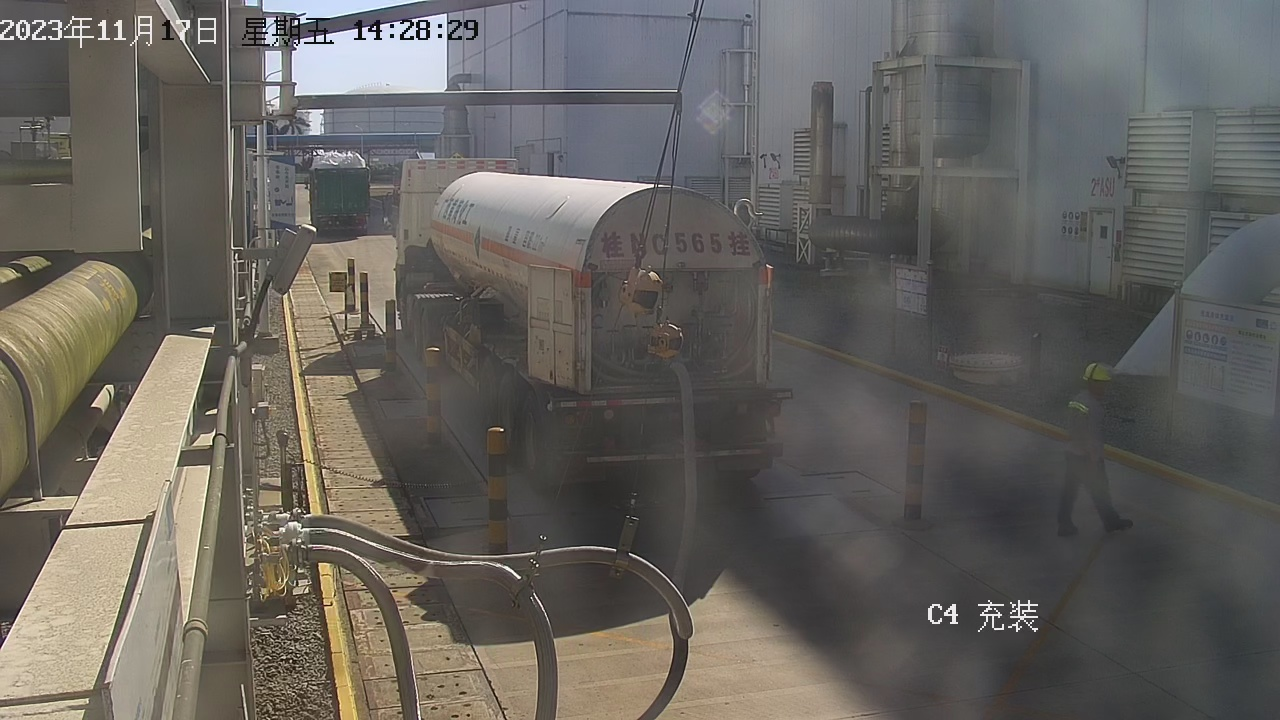Head_with_Helmet: (1071, 355, 1127, 396)
Uniform: (1059, 378, 1141, 541)
